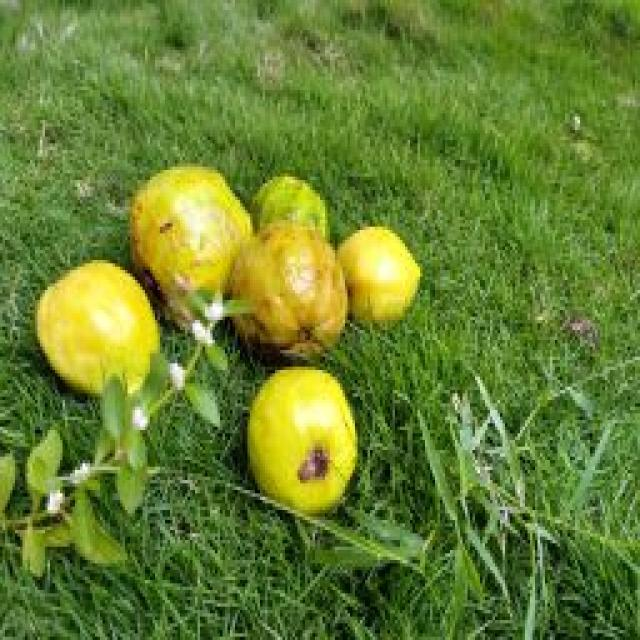Organik: (115, 155, 254, 320), (34, 245, 167, 412), (236, 211, 351, 386), (240, 354, 356, 522), (342, 214, 450, 340), (240, 150, 332, 240)
